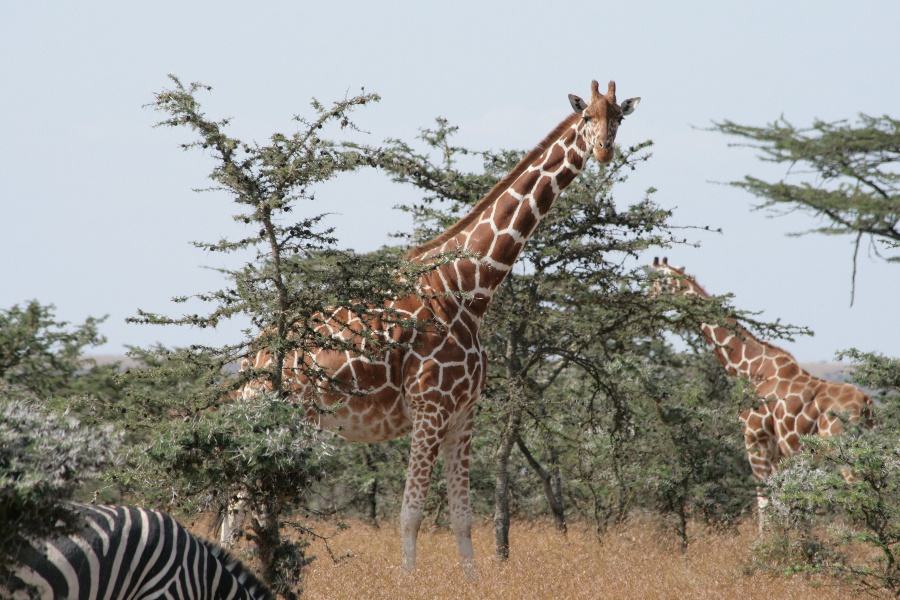giraffe: (217, 74, 643, 539)
